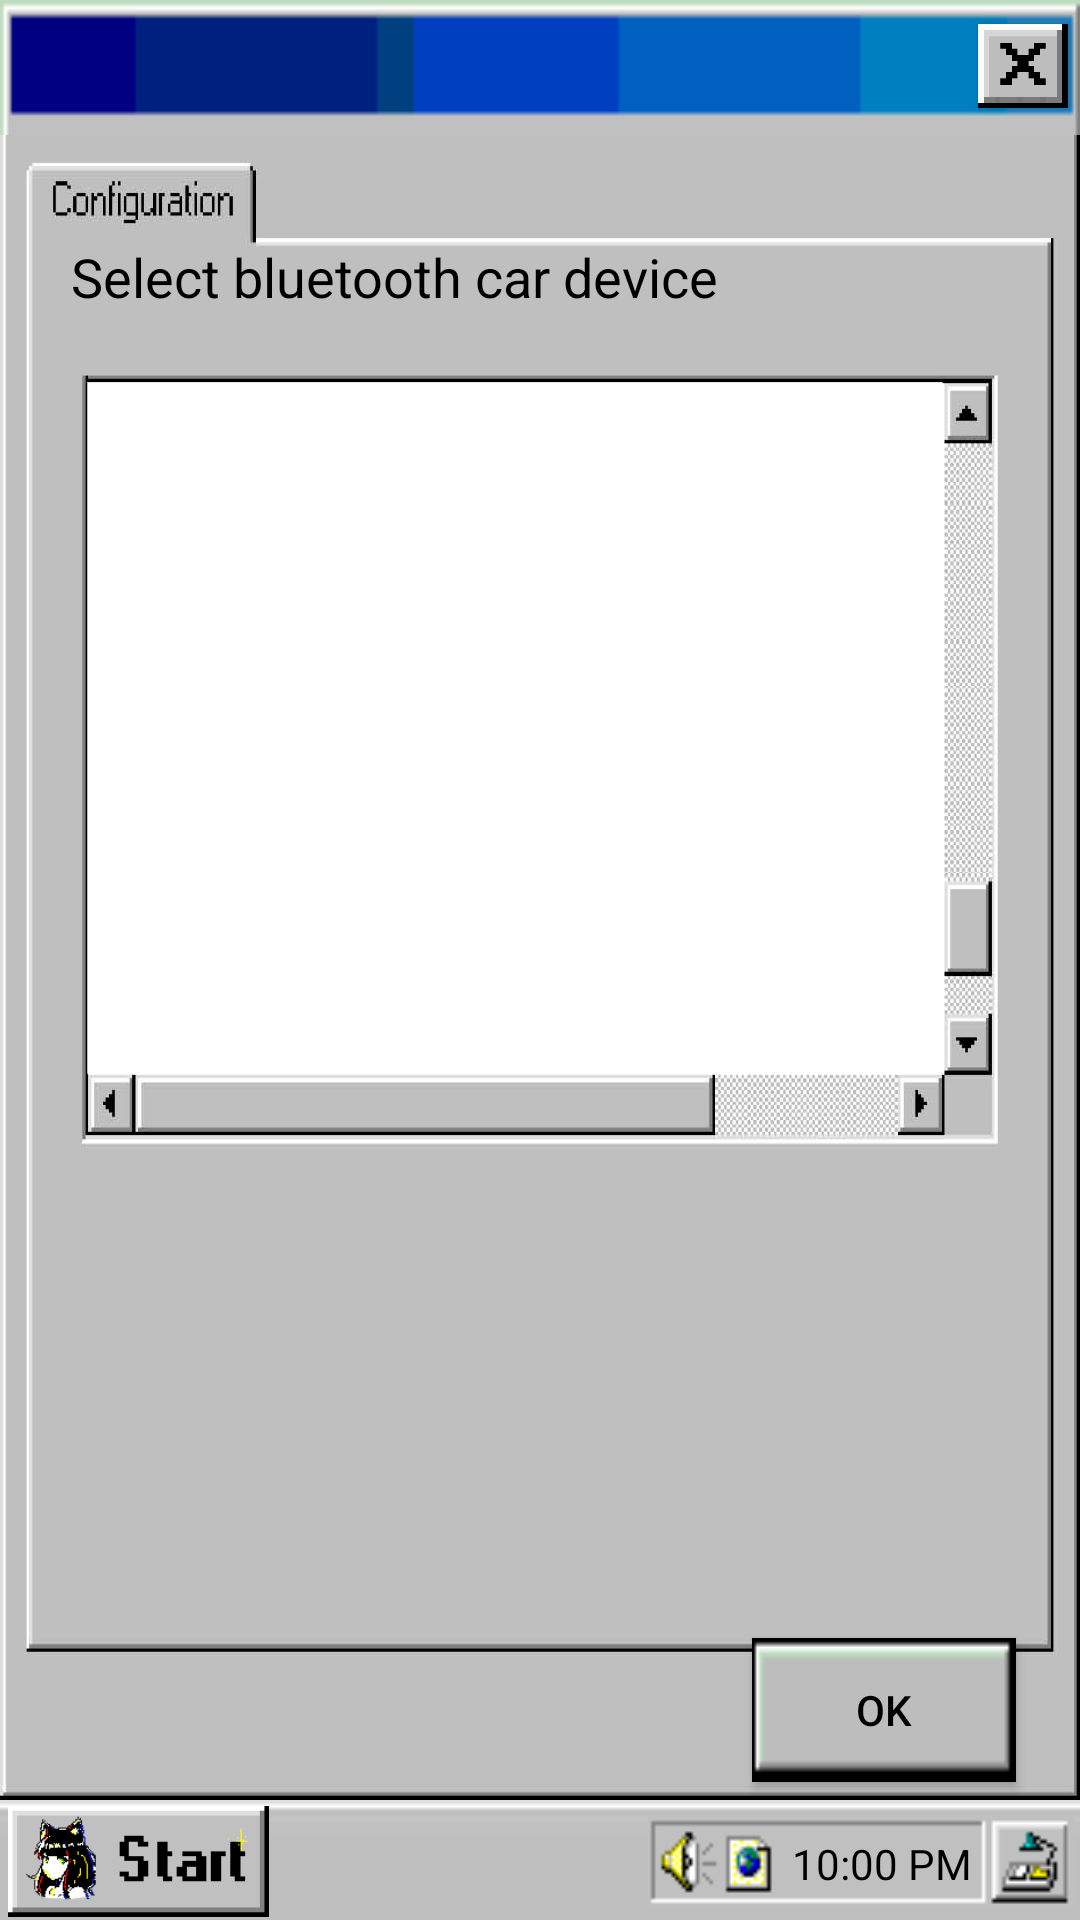

Point at icon controls on the screen. Image size 1080x1920, points as (x,y).
exit: (1023,66)
